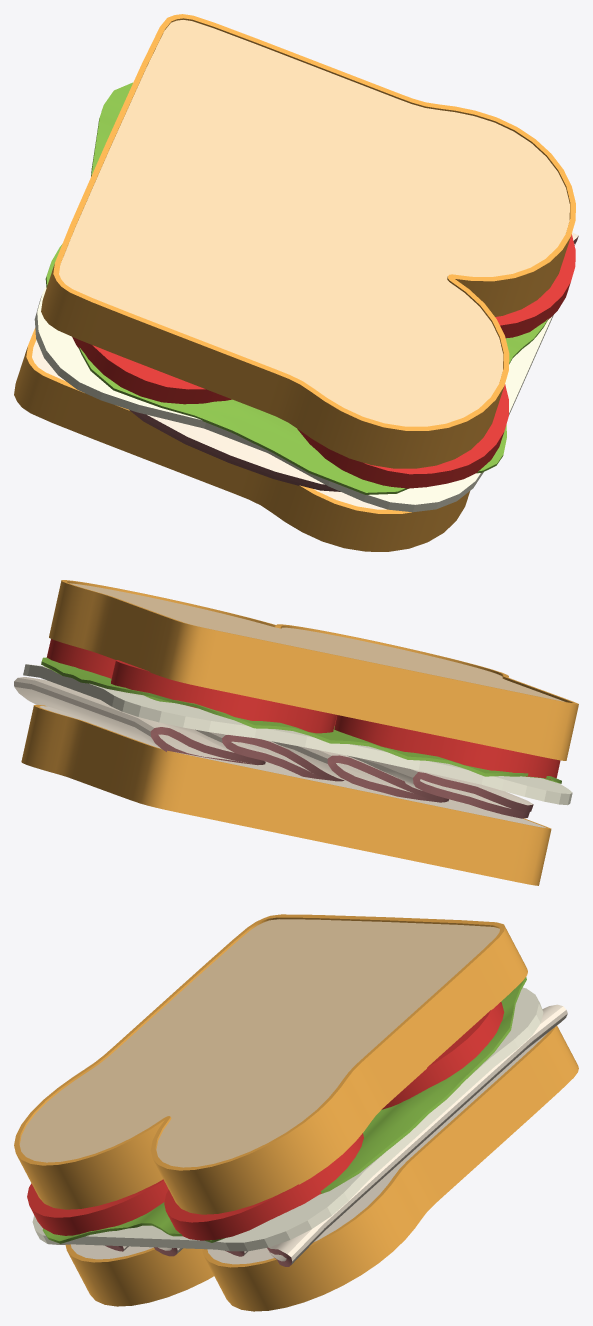
The model's file is sandwich.glb.
The picture shows the model from 3 angles, top to bottom: view 1: azimuth 30°, elevation 25°; view 2: azimuth 150°, elevation 25°; view 3: azimuth 270°, elevation 25°; orthographic projection. The views are drawn at different scales.
Parts seen in each view (by area): view 1: Circle.2211; view 2: Circle.2211; view 3: Circle.2211.
Part boxes in pixels (bbox=[...]): Circle.2211: bbox=[14, 14, 578, 551]; Circle.2211: bbox=[14, 580, 578, 885]; Circle.2211: bbox=[14, 914, 578, 1311].
Size of the model in its own units: 2.18 by 1.45 by 2.11.
1 material, 1 textured.
